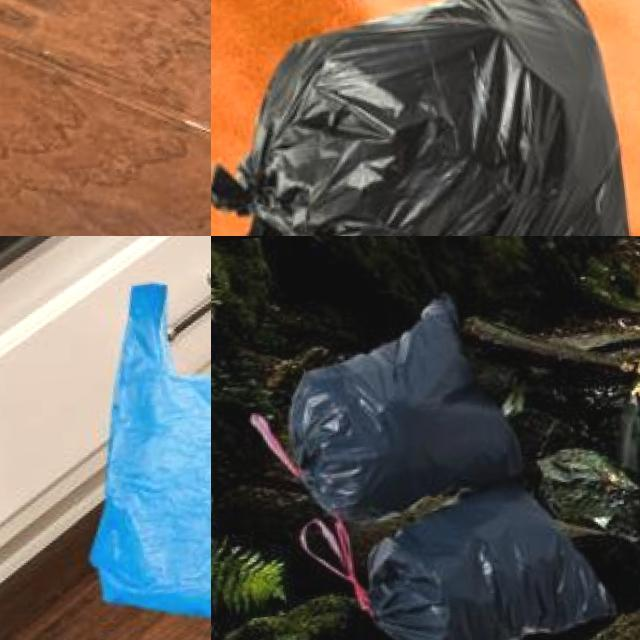waste: (236, 0, 629, 236), (254, 288, 530, 512), (66, 258, 211, 640), (322, 481, 620, 640)
